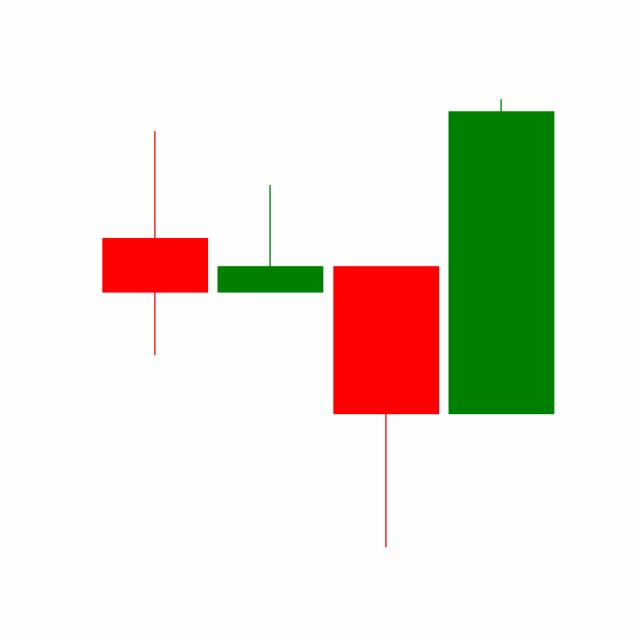Marubozu: (443, 94, 559, 417)
